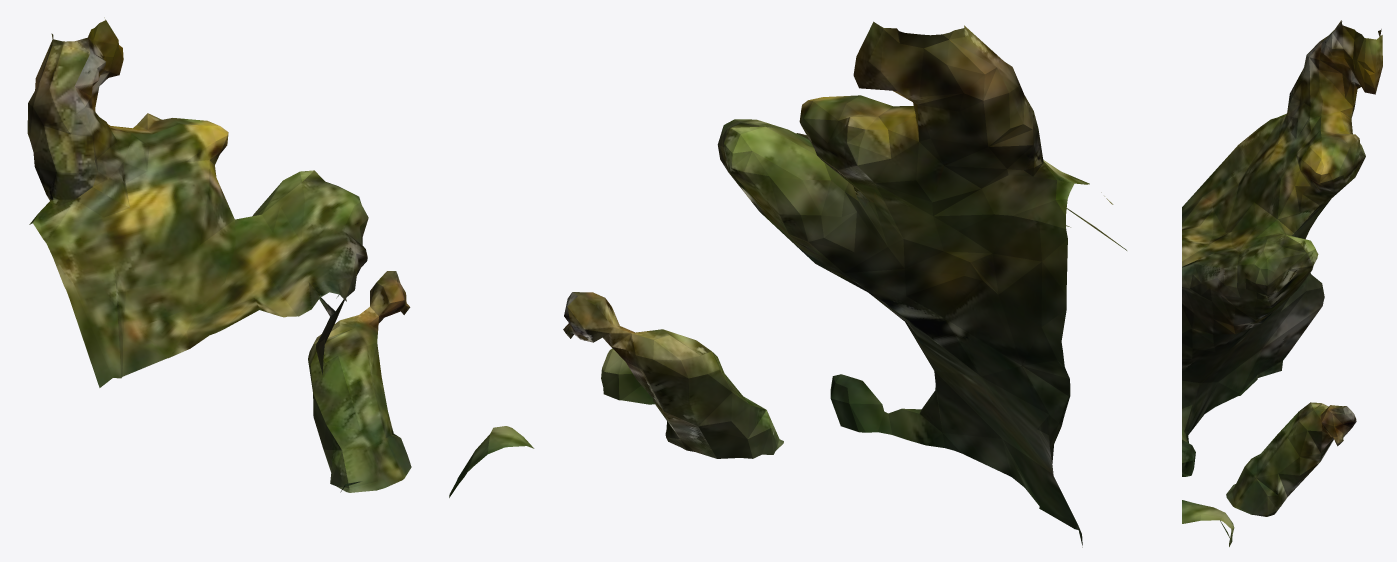
3 views of the same model, side by side, from view 1: azimuth 30°, elevation 25°; view 2: azimuth 150°, elevation 25°; view 3: azimuth 270°, elevation 25° (orthographic). The views are drawn at different scales.
Bounding box in the file's own units: 0.8374 × 0.8373 × 0.4013.
Materials: 3 (3 with a texture image).
